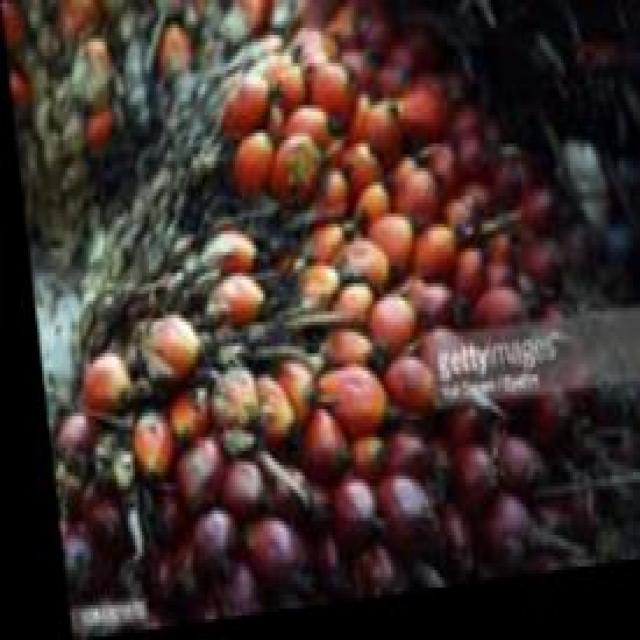Ripefruit: (2, 0, 622, 637)
